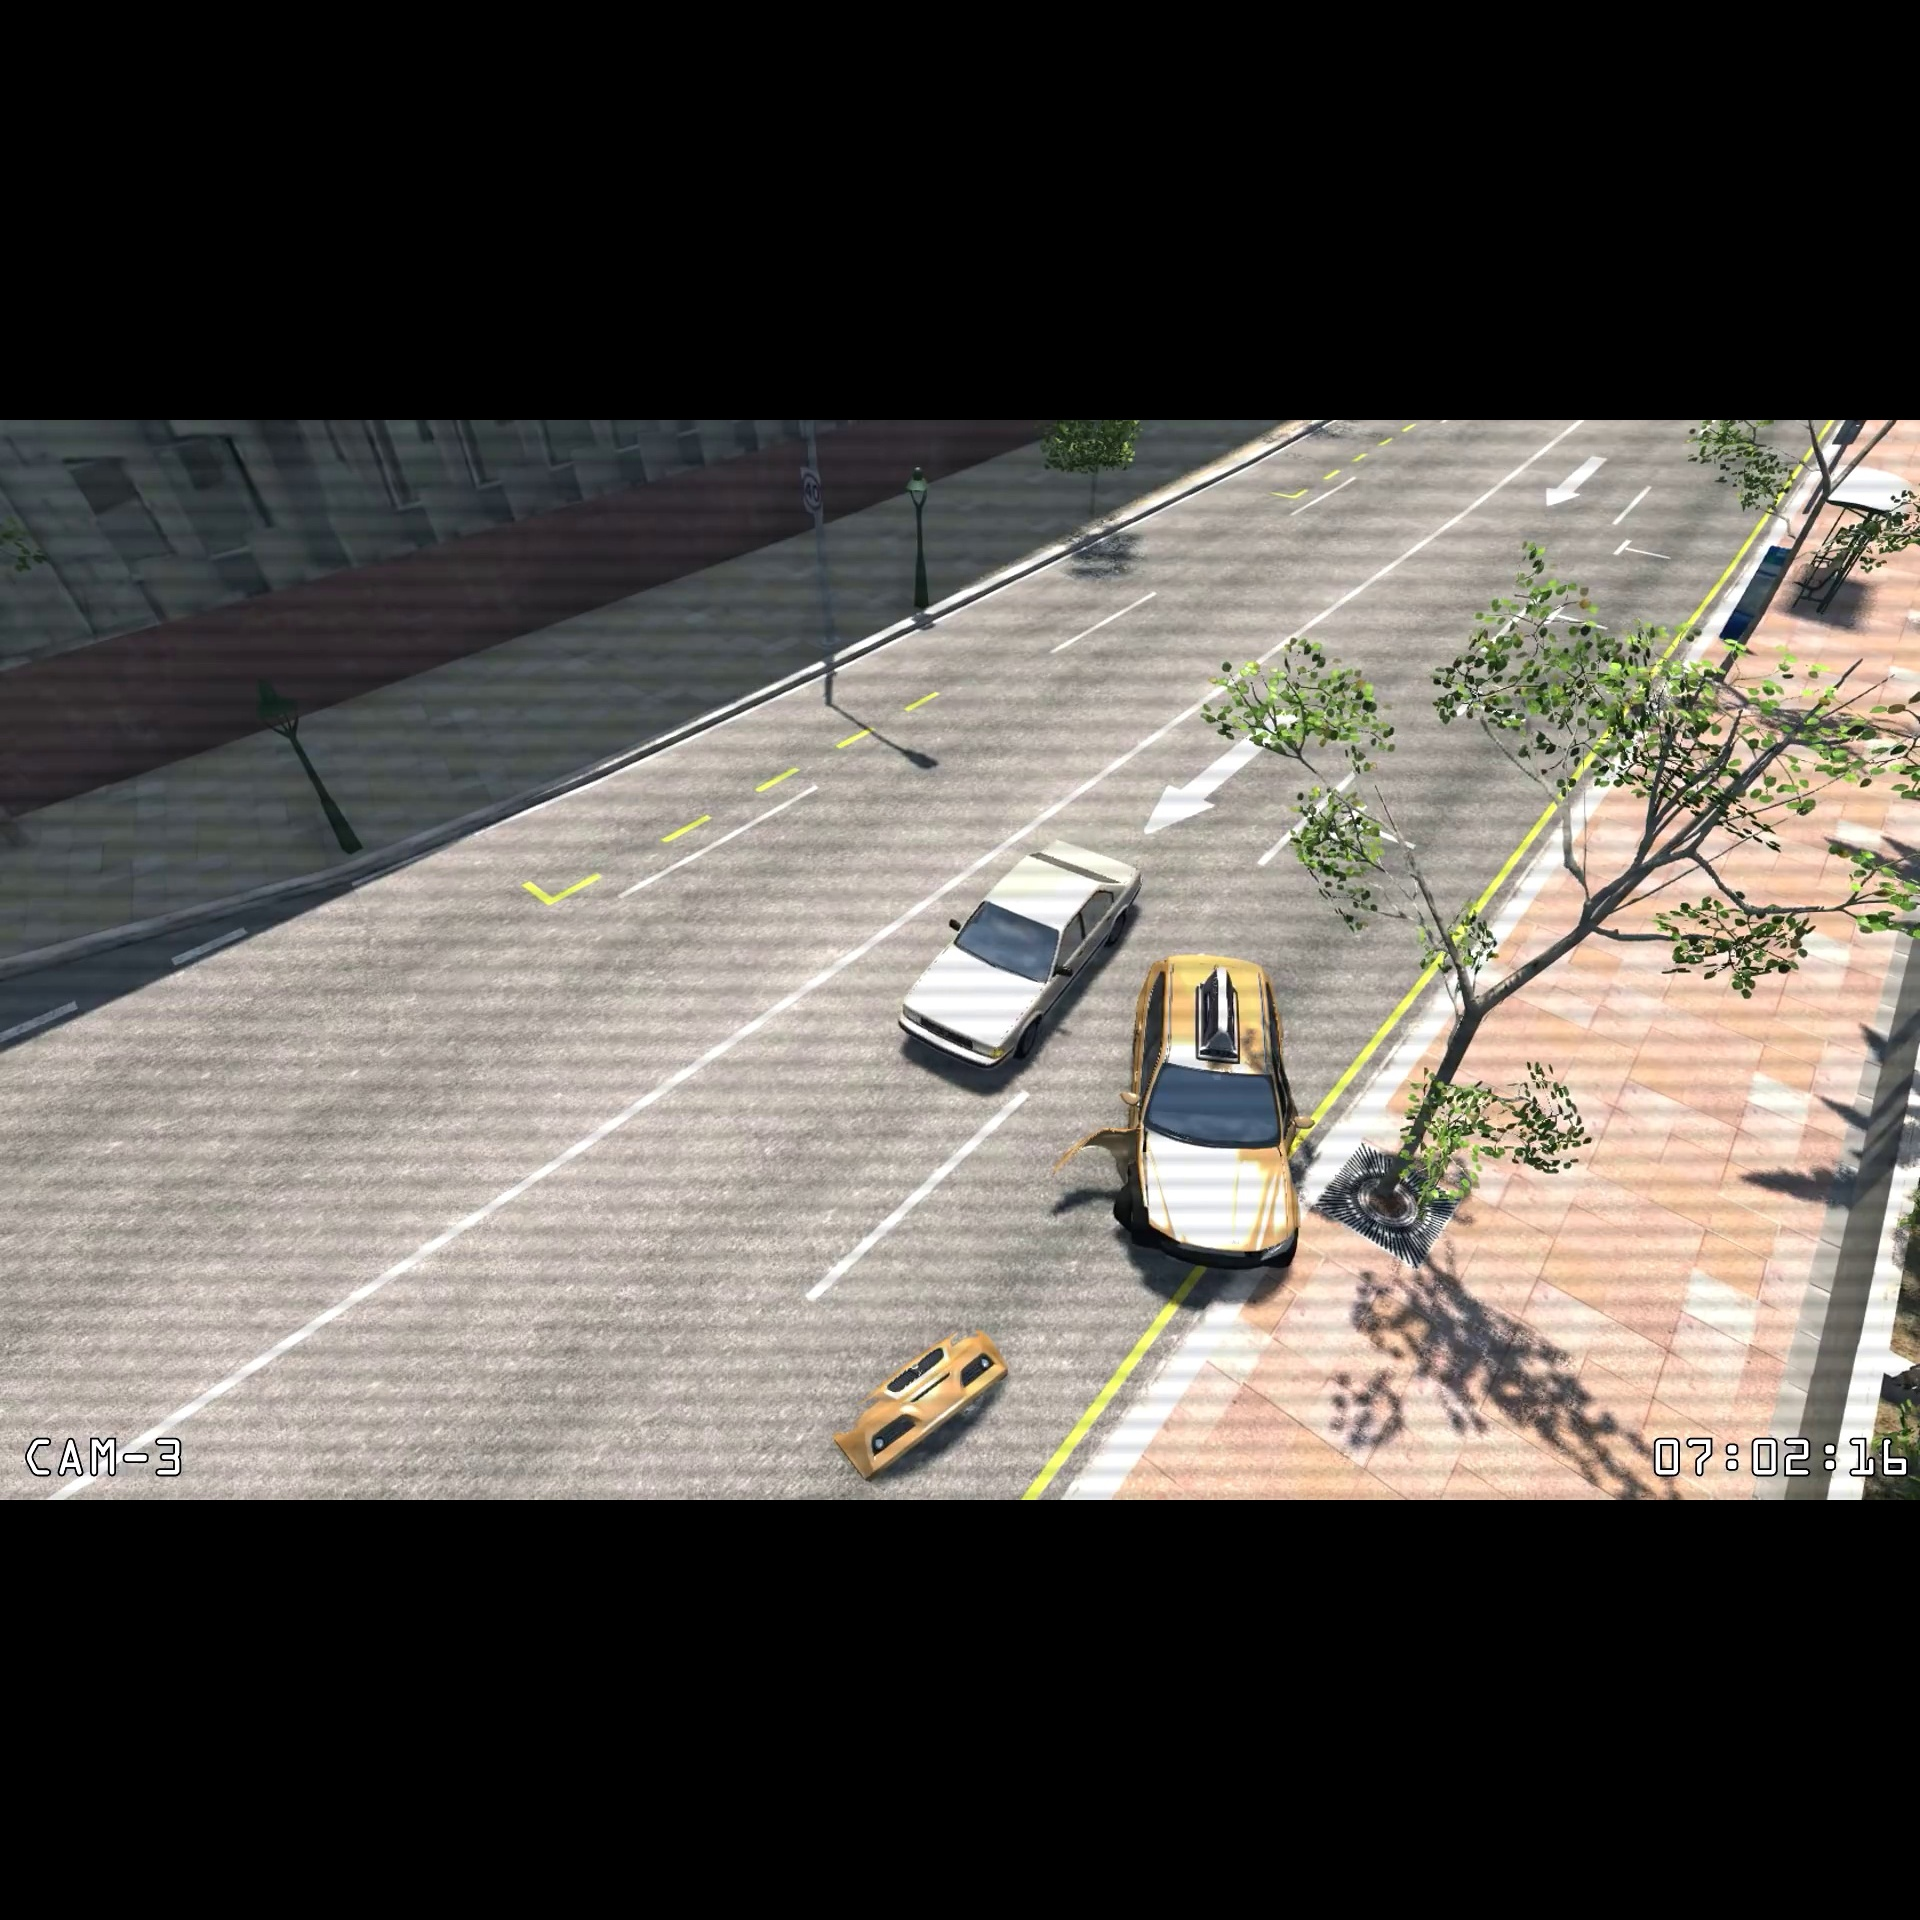vehicle: (1097, 948, 1317, 1282), (890, 828, 1148, 1083)
